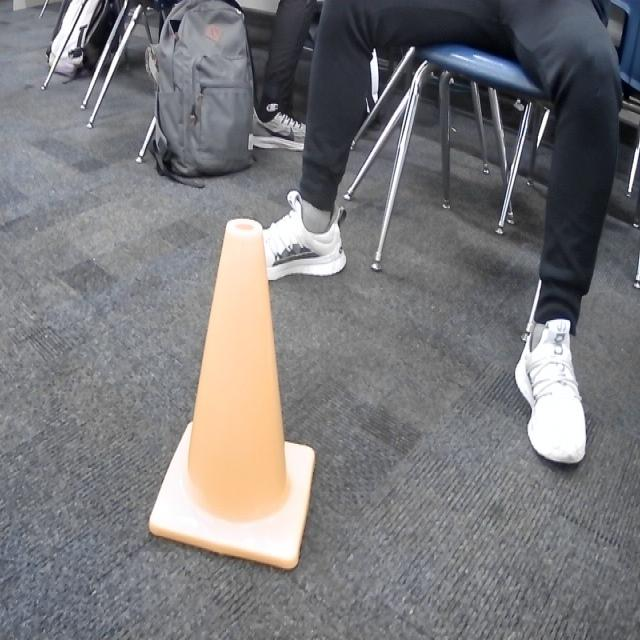cone: (146, 217, 316, 572)
